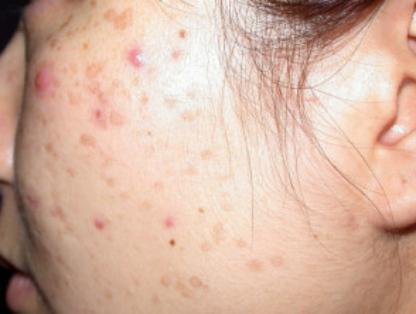Blackheads: (163, 233, 185, 251)
Nodules: (125, 38, 158, 73)
Papules: (28, 69, 53, 95)
acne scar: (76, 126, 107, 152), (242, 253, 273, 275), (157, 266, 178, 292), (42, 133, 60, 157), (209, 220, 231, 238), (165, 44, 189, 60), (197, 144, 216, 162), (199, 236, 215, 257), (177, 112, 196, 124)
